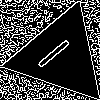I: (35, 30, 80, 71)
